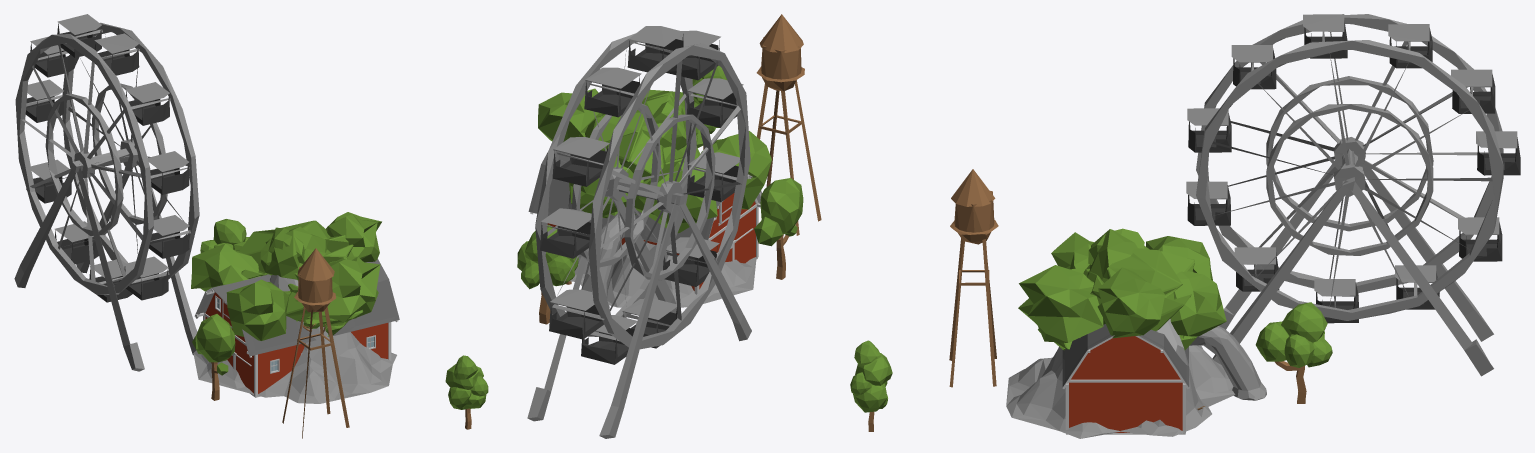
Rendered from Props-01.fbx.
The picture shows the model from 3 angles, left to right: view 1: azimuth 30°, elevation 25°; view 2: azimuth 150°, elevation 25°; view 3: azimuth 270°, elevation 25°; orthographic projection. The views are drawn at different scales.
Parts seen in each view (by area): view 1: Building-01, Tree-10, Building-02, Mountain-01, Tree-13, Tree-04, Tree-06, Tree-03; view 2: Building-01, Tree-10, Tree-13, Building-02, Mountain-01, Tree-04, Stone-10, Tree-06; view 3: Building-01, Tree-10, Building-02, Mountain-01, Tree-13, Tree-04, Stone-10.
Boxes of the visible parts, x1,y1,x2,y2 form: Building-01: (14, 14, 349, 438); Tree-10: (191, 212, 381, 340); Building-02: (194, 259, 399, 397); Mountain-01: (193, 275, 396, 403); Tree-13: (192, 219, 488, 429); Tree-04: (236, 220, 353, 336); Tree-06: (260, 227, 304, 265); Tree-03: (286, 273, 326, 328); Building-01: (527, 14, 821, 438); Tree-10: (538, 88, 771, 233); Tree-13: (517, 65, 803, 324); Building-02: (528, 152, 761, 294); Mountain-01: (568, 194, 756, 307); Tree-04: (579, 112, 698, 183); Stone-10: (581, 213, 635, 307); Tree-06: (652, 100, 686, 150); Building-01: (949, 14, 1520, 387); Tree-10: (1018, 229, 1226, 342); Building-02: (1062, 324, 1189, 434); Mountain-01: (1006, 319, 1235, 438); Tree-13: (850, 302, 1332, 431); Tree-04: (1054, 248, 1197, 350); Stone-10: (1190, 326, 1266, 400).
Size of what is drawn, in the model's own units: 28.05 by 36.54 by 65.5.
